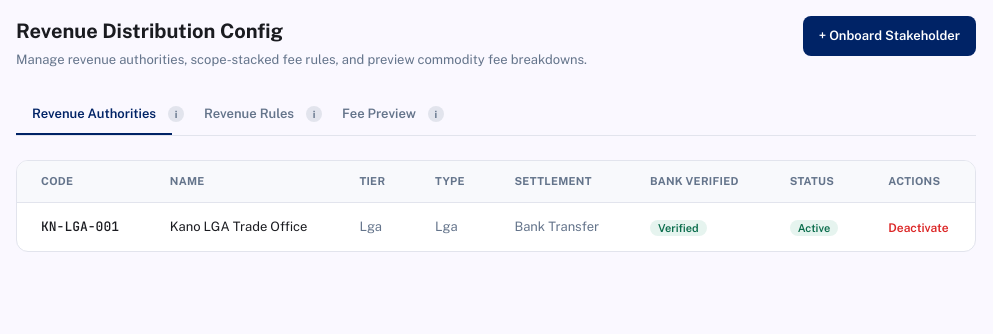
Test: AC-06: Rules tab › renders rule rows after switching to the Revenue Rules tab
Click the button "Revenue Rules": (249, 114) 188,94 -> 310,135
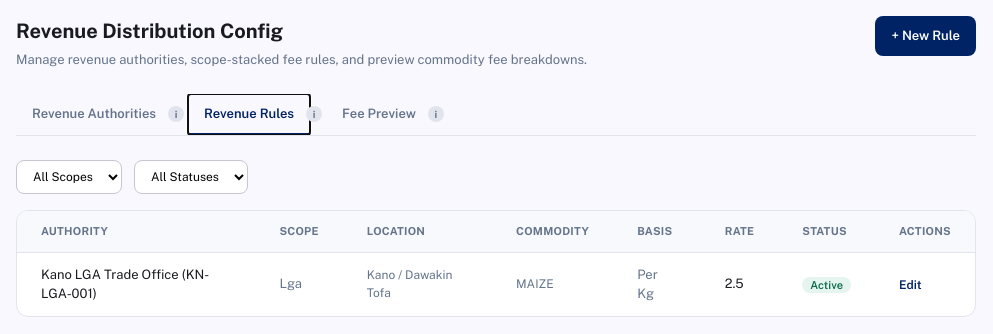
expect the text "MAIZE" is shown: met, box 492,252 -> 613,316
